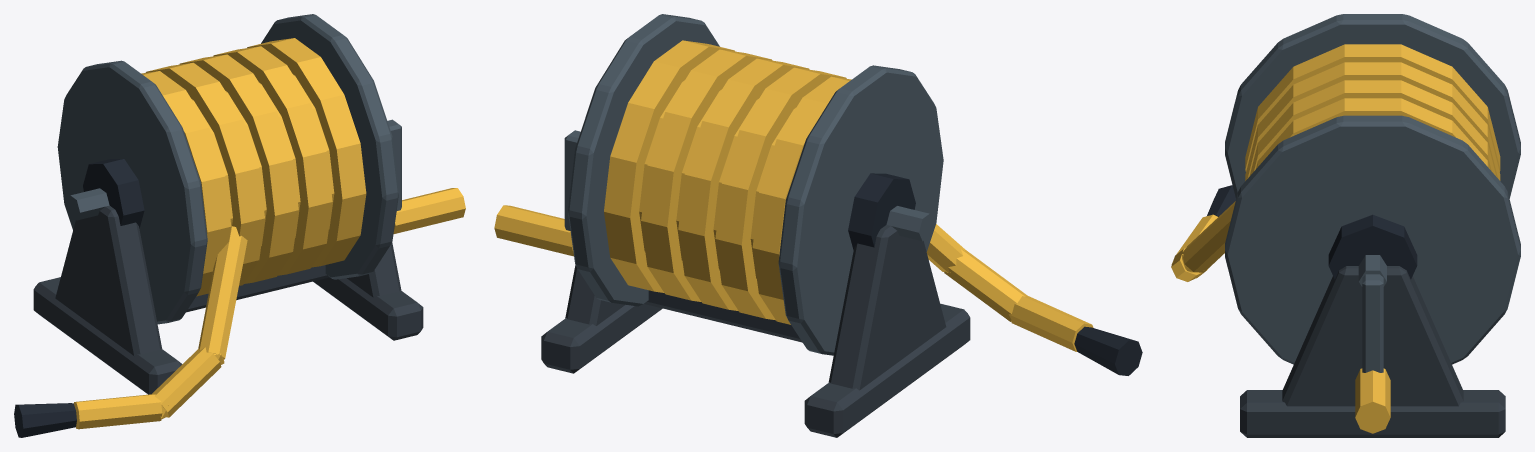
Rendered from Prop_HoseReel.fbx.
3 views of the same model, side by side, from view 1: azimuth 30°, elevation 25°; view 2: azimuth 150°, elevation 25°; view 3: azimuth 270°, elevation 25° (orthographic). The views are drawn at different scales.
Visible parts, largest first — view 1: Drum, Frame, FrameDark, Amber_Rubber, Slate, Amber_Metal; view 2: Drum, Frame, FrameDark, Amber_Rubber, Slate, Amber_Metal; view 3: Frame, FrameDark, Drum, Slate, Amber_Rubber, Amber_Metal.
Part boxes in pixels (x1,y1,x2,y2): Drum: [141, 38, 366, 296]; Frame: [57, 14, 401, 324]; FrameDark: [33, 205, 423, 394]; Amber_Rubber: [73, 226, 247, 429]; Slate: [14, 159, 144, 437]; Amber_Metal: [393, 188, 465, 233]; Drum: [604, 40, 851, 324]; Frame: [564, 14, 943, 355]; FrameDark: [541, 225, 970, 437]; Amber_Rubber: [926, 224, 1093, 351]; Slate: [848, 173, 1142, 375]; Amber_Metal: [494, 205, 573, 256]; Frame: [1225, 14, 1520, 372]; FrameDark: [1240, 266, 1505, 437]; Drum: [1245, 44, 1500, 180]; Slate: [1207, 185, 1417, 279]; Amber_Rubber: [1171, 201, 1235, 281]; Amber_Metal: [1355, 368, 1390, 433].
Size of the model in its own units: 3.61 by 1.87 by 1.97.
